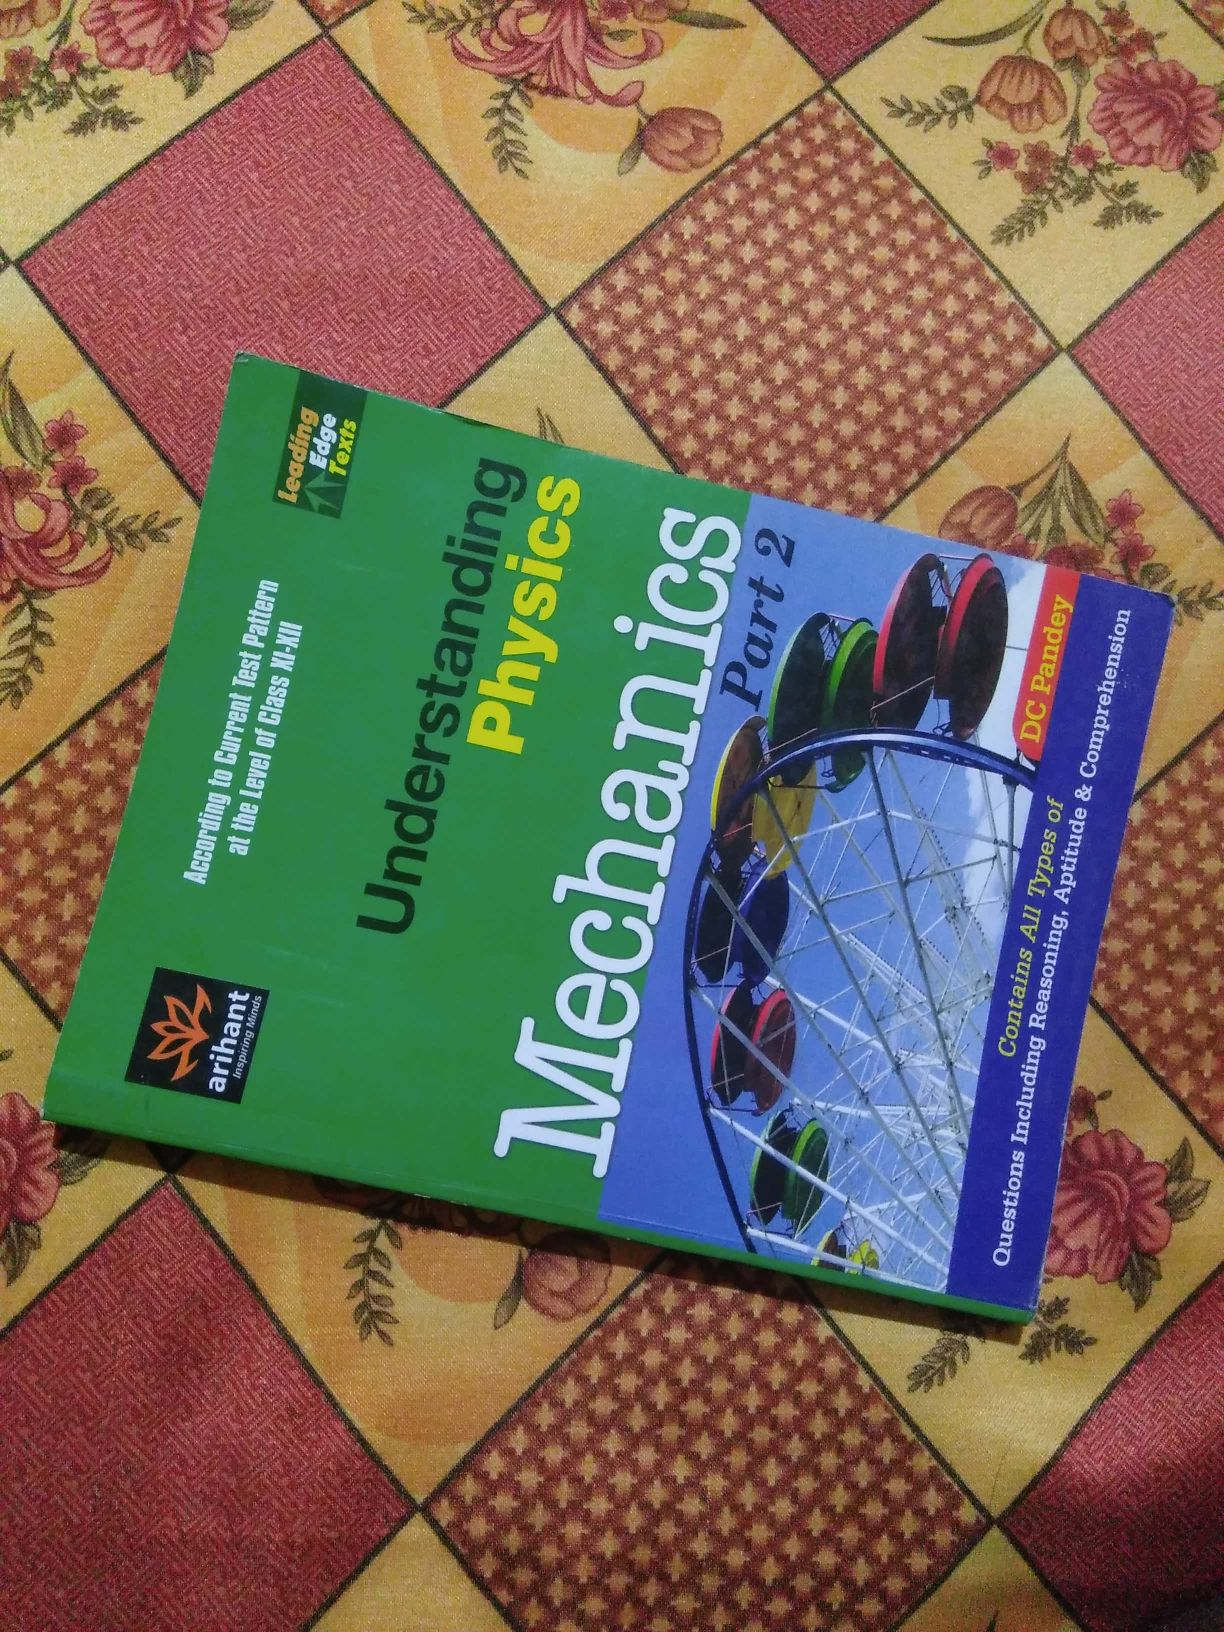mechanics: (54, 314, 1146, 1356)
